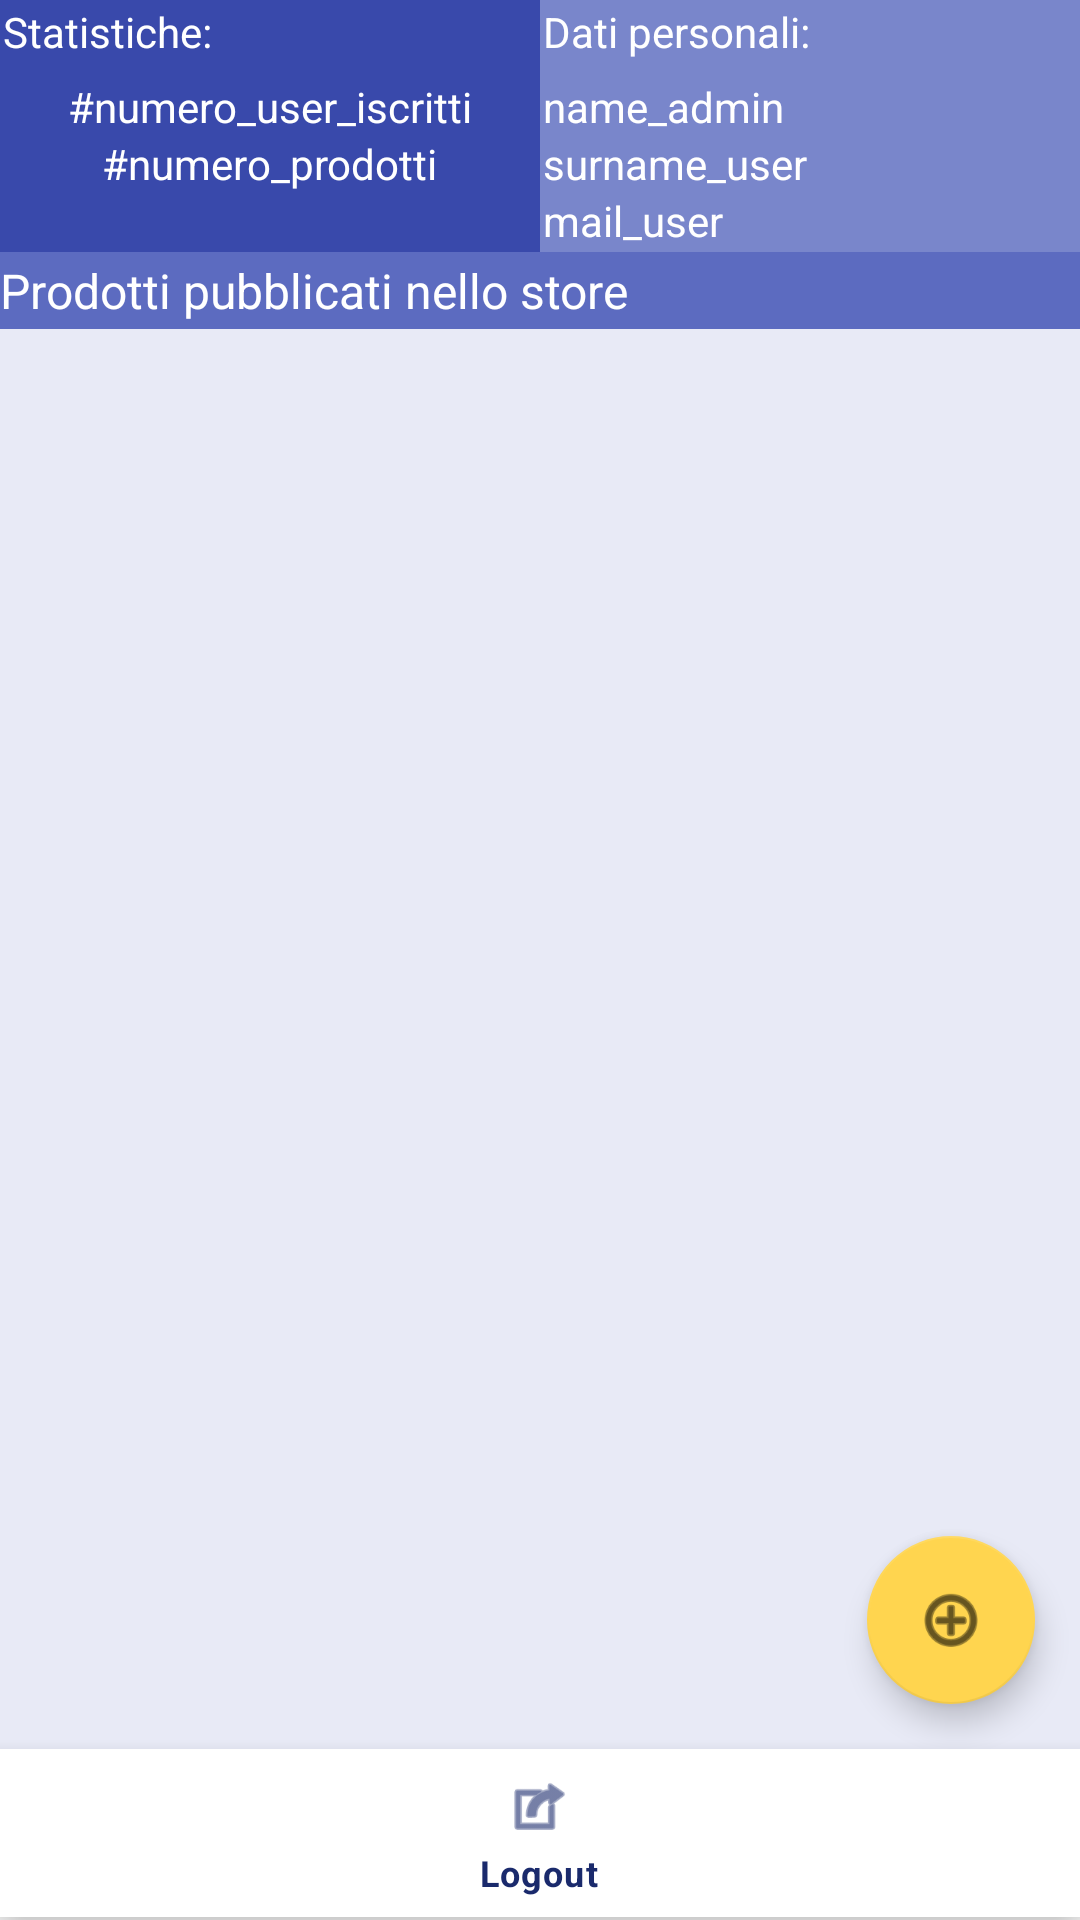

Where icons sit on this 1080×1920 app screen, as bbox=(x1, y1, x2, y2):
add: bbox=(867, 1536, 1035, 1704)
